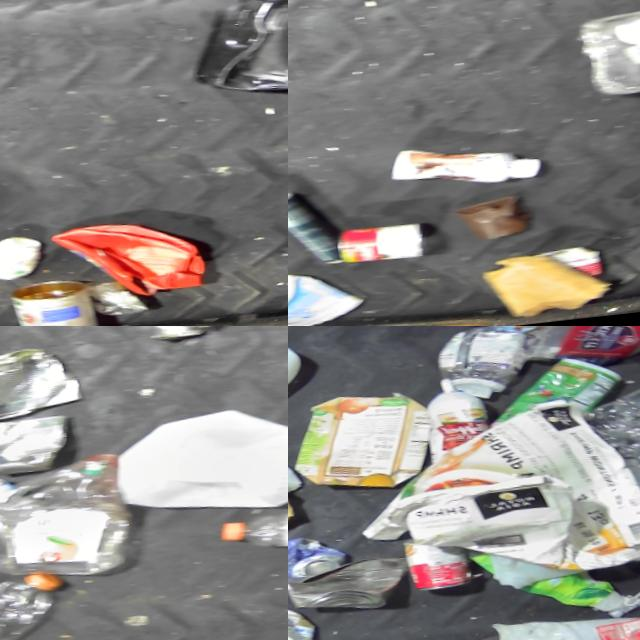can: (288, 557, 404, 628), (0, 341, 82, 433), (288, 189, 346, 277), (0, 414, 71, 485), (399, 542, 476, 604), (331, 224, 422, 274), (0, 280, 96, 326), (288, 536, 346, 592), (82, 282, 147, 326), (138, 326, 217, 353)
milk_jug: (108, 401, 288, 536), (484, 617, 640, 640)
non_white_jug: (0, 450, 136, 597), (289, 393, 432, 506), (41, 220, 203, 314)
plastic_bottle: (210, 507, 288, 570), (0, 567, 65, 640)
